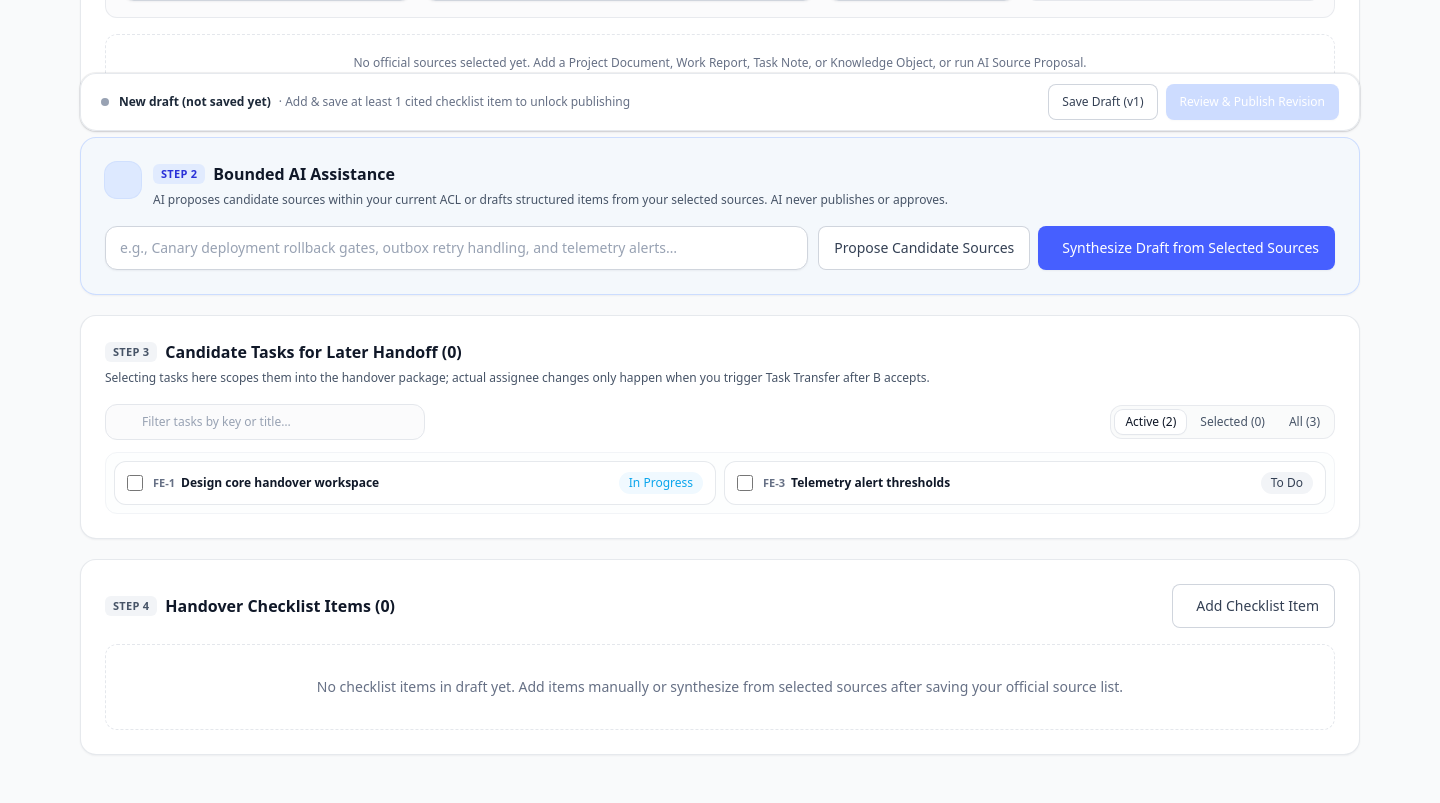
Test: HandoverDetailWorkspace › filters Candidate Tasks by Active/Selected/All scopes and search query in Draft & AI Assist
(page scrolled)
Expected: the text "Design core handover workspace" is shown, [181,475,379,491]
Expected: the text "Telemetry alert thresholds" is shown, [791,475,950,491]
Click the button "All (3)": (1304, 422) [1279,410,1330,434]
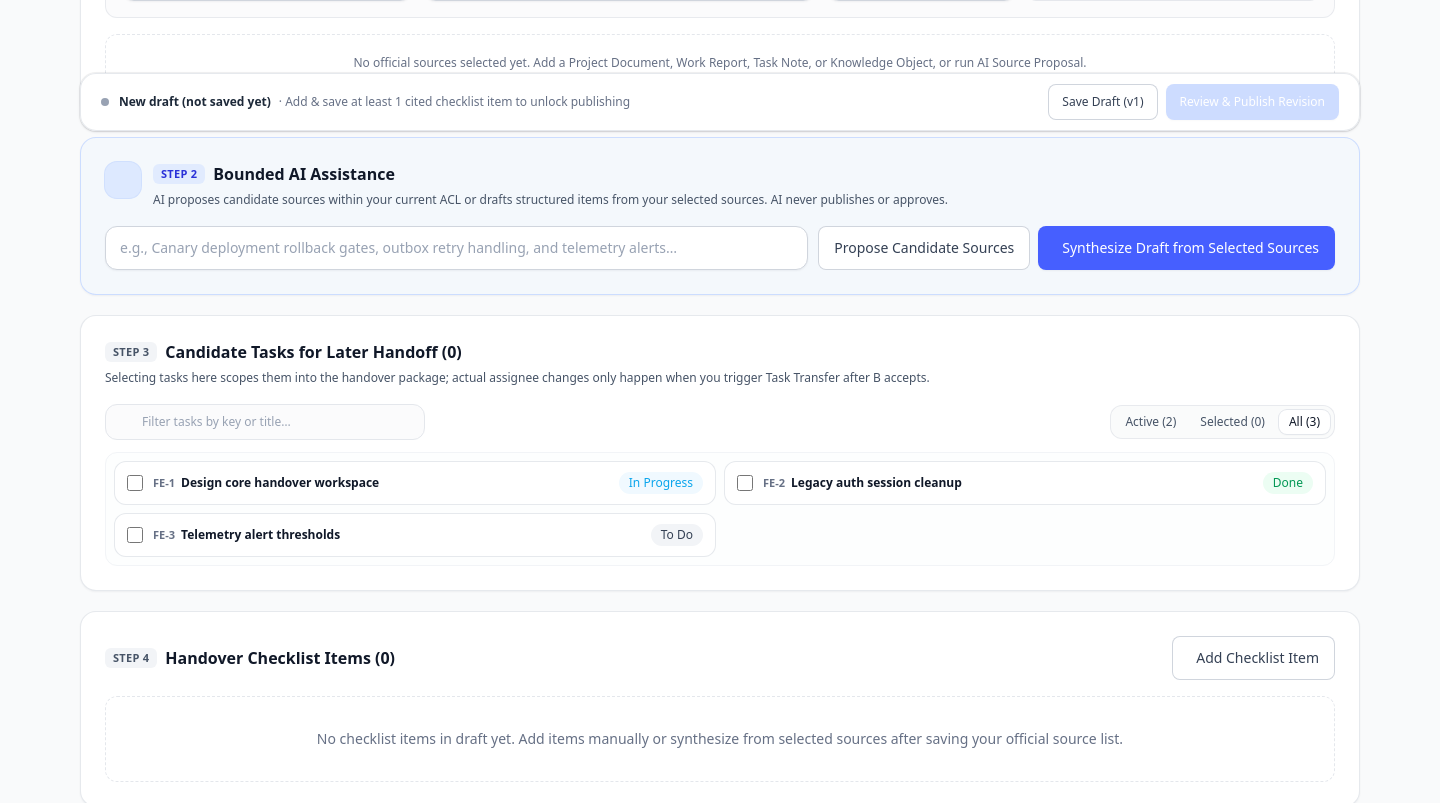
Expected: the text "Legacy auth session cleanup" is shown, [791,475,962,491]
In the field labelled "Filter tasks by key or title…": (265, 422) [105,404,425,440], type "FE-3"
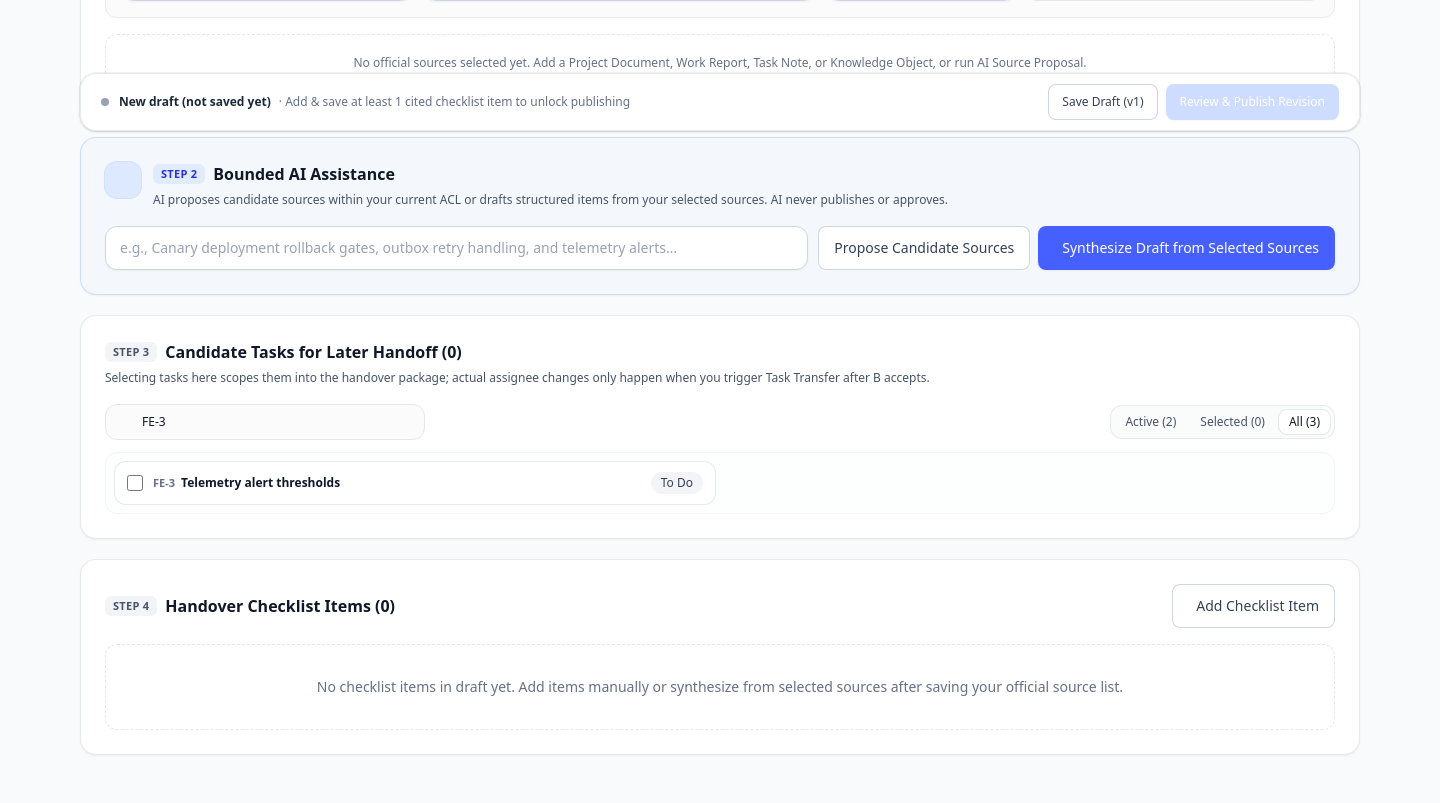
Expected: the text "Telemetry alert thresholds" is shown, [181,475,340,491]
Expected: the text "Design core handover workspace" is gone
